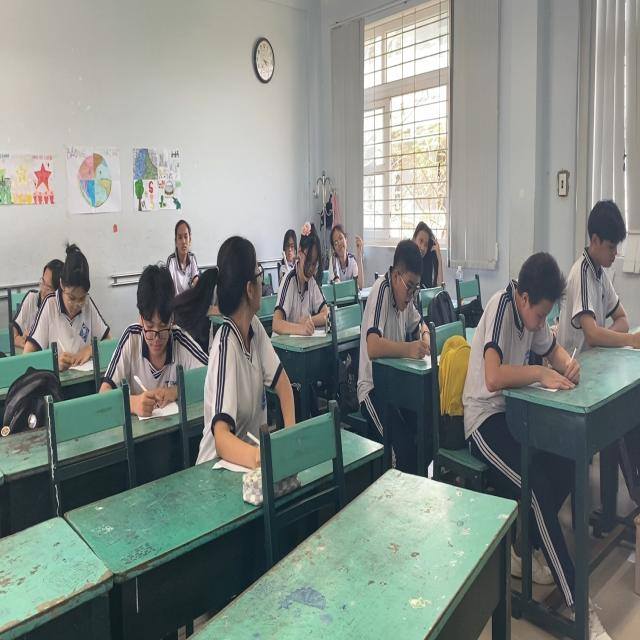cheating: (200, 219, 278, 437)
not_cheating: (474, 247, 575, 410), (121, 265, 196, 402), (571, 202, 630, 346), (37, 237, 108, 351), (364, 247, 426, 353), (272, 223, 326, 323), (327, 220, 367, 296), (165, 212, 202, 282), (416, 220, 445, 282)
